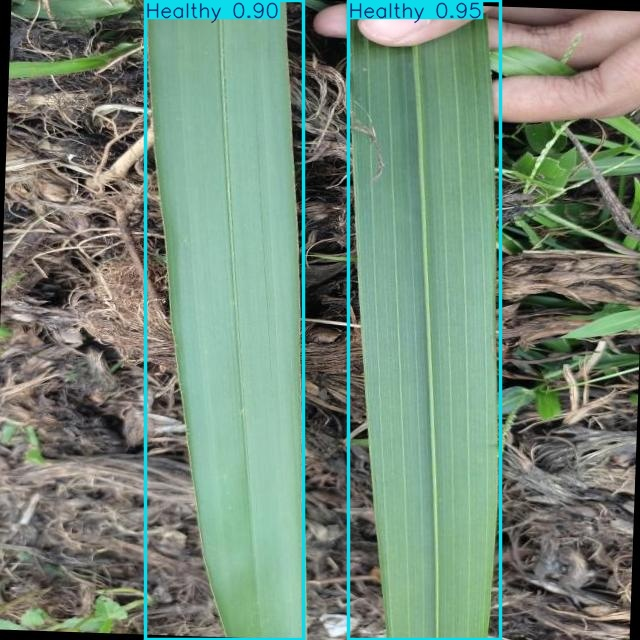Healthy: (146, 0, 304, 639), (348, 0, 500, 640)
